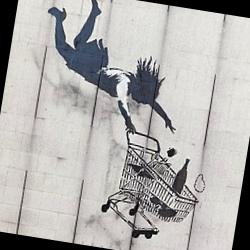graffiti: (49, 0, 198, 234), (194, 174, 205, 192)
